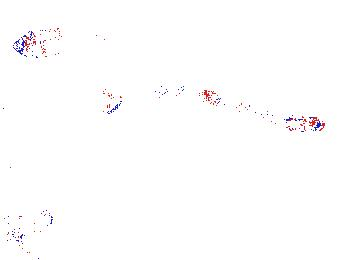X-ray fish: (12, 25, 73, 59)
red belly glassfish: (241, 102, 325, 134), (198, 88, 241, 116)
redtail glassfish: (104, 80, 190, 116), (1, 214, 54, 247), (114, 121, 136, 156)
